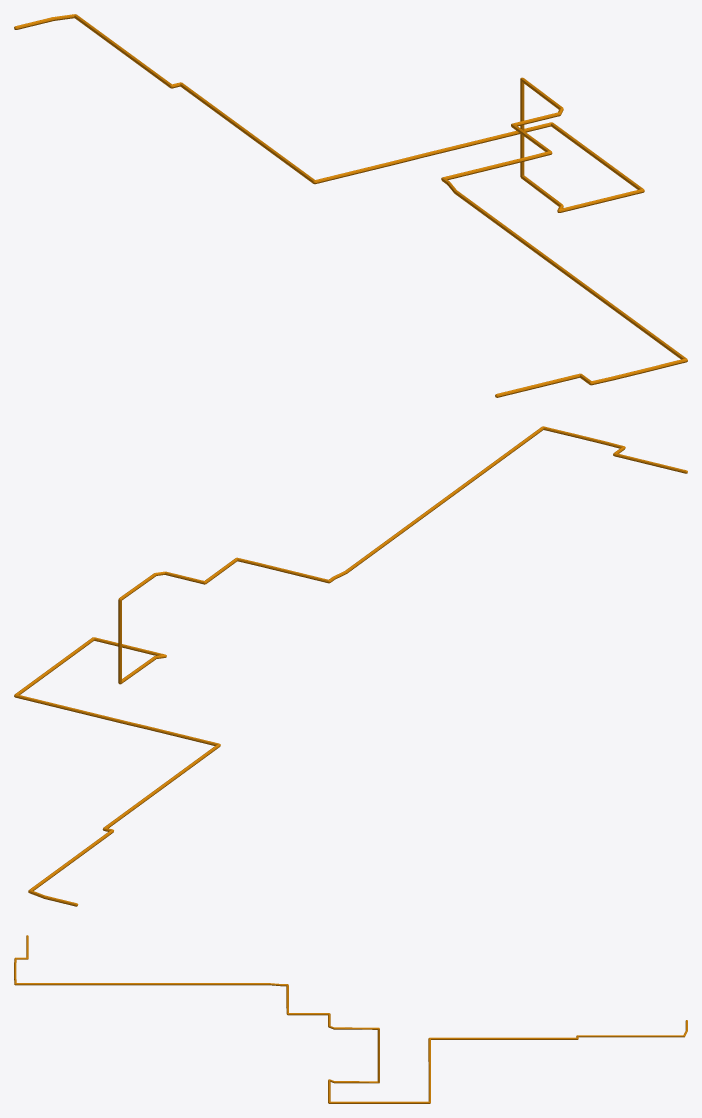
3 views of the same model, one above another, from view 1: azimuth 30°, elevation 25°; view 2: azimuth 150°, elevation 25°; view 3: azimuth 270°, elevation 25° (orthographic). The views are drawn at different scales.
Bounding box in the file's own units: 2278 × 520 × 5695.
